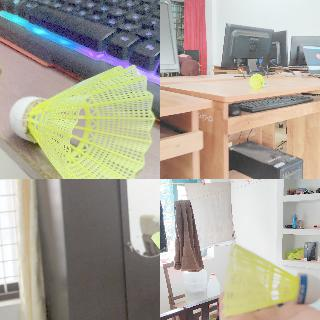shuttlecock: (9, 64, 155, 178), (222, 244, 319, 319), (249, 73, 267, 89), (151, 230, 159, 259)
